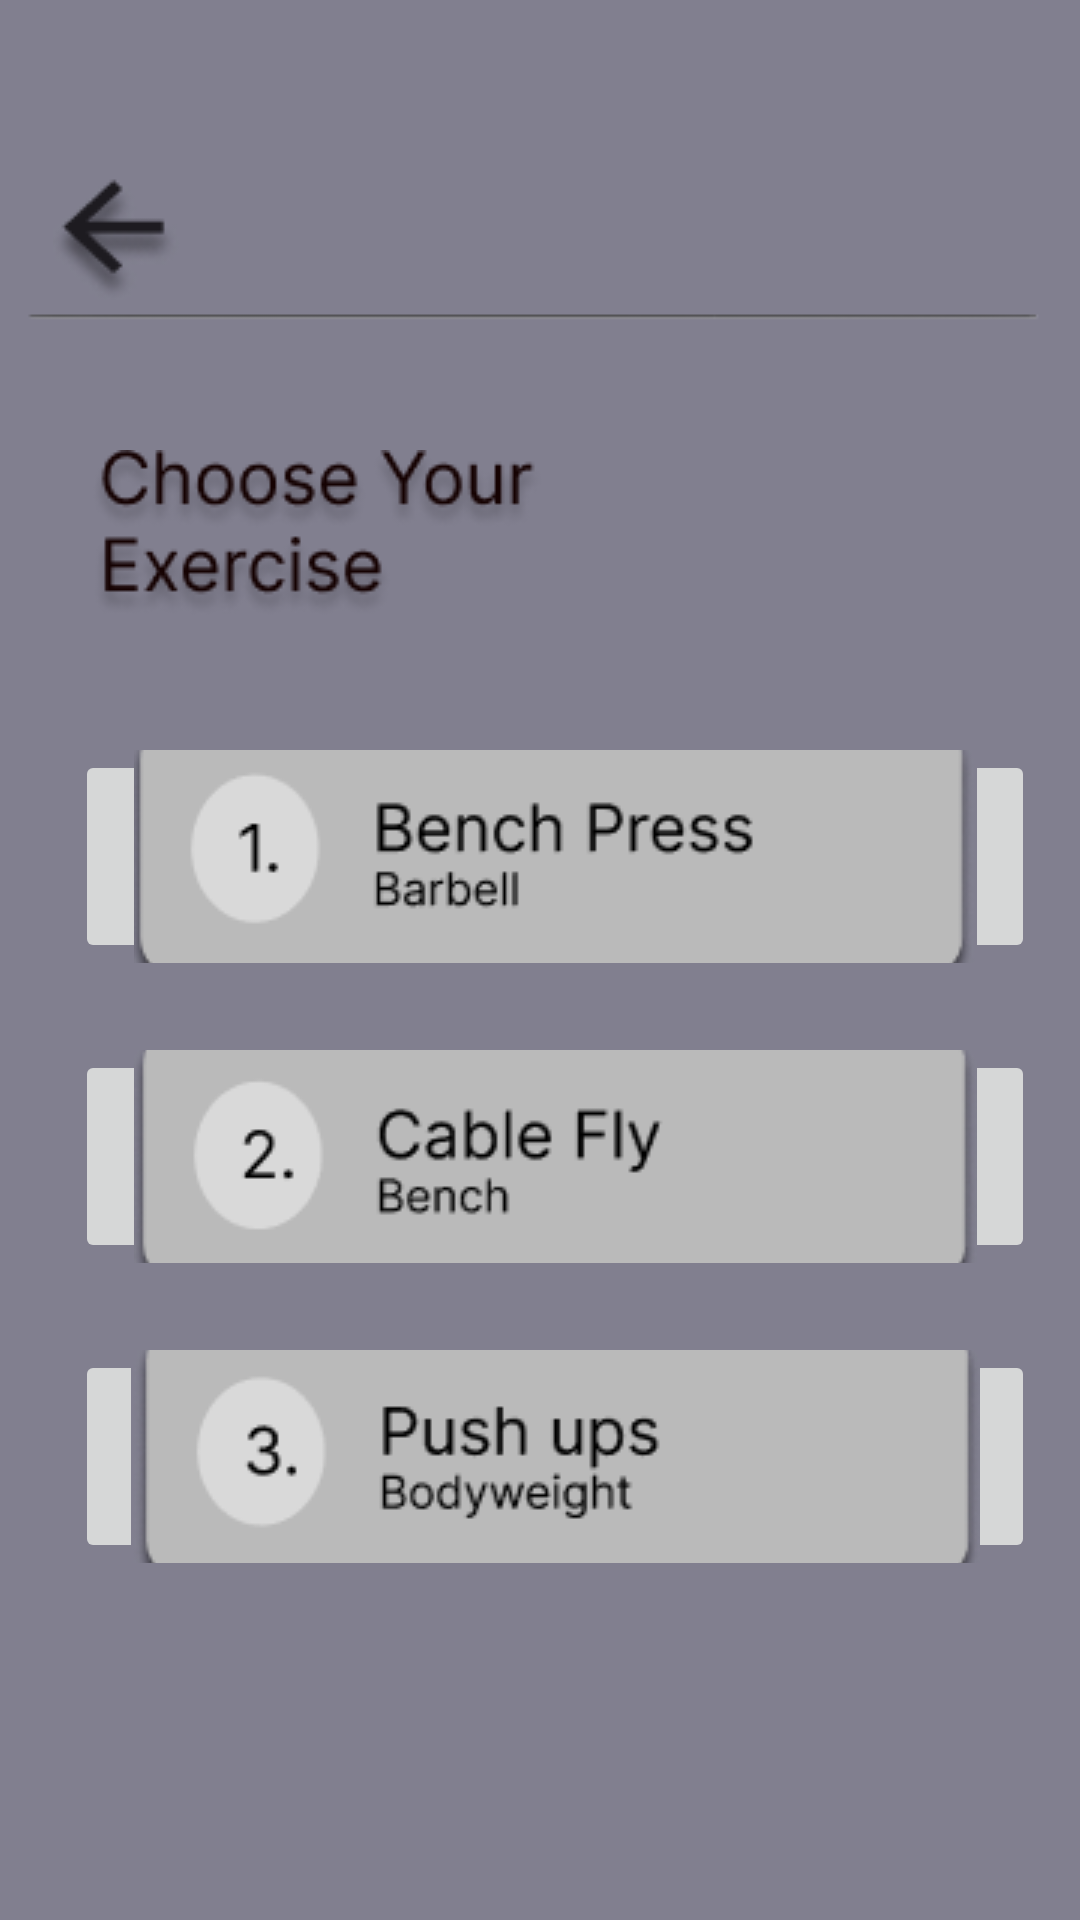

Icons on this 1080*1920 Android screen, each with its box as box(x1, y1, x2, y2):
chestback: box(63, 180, 165, 286)
